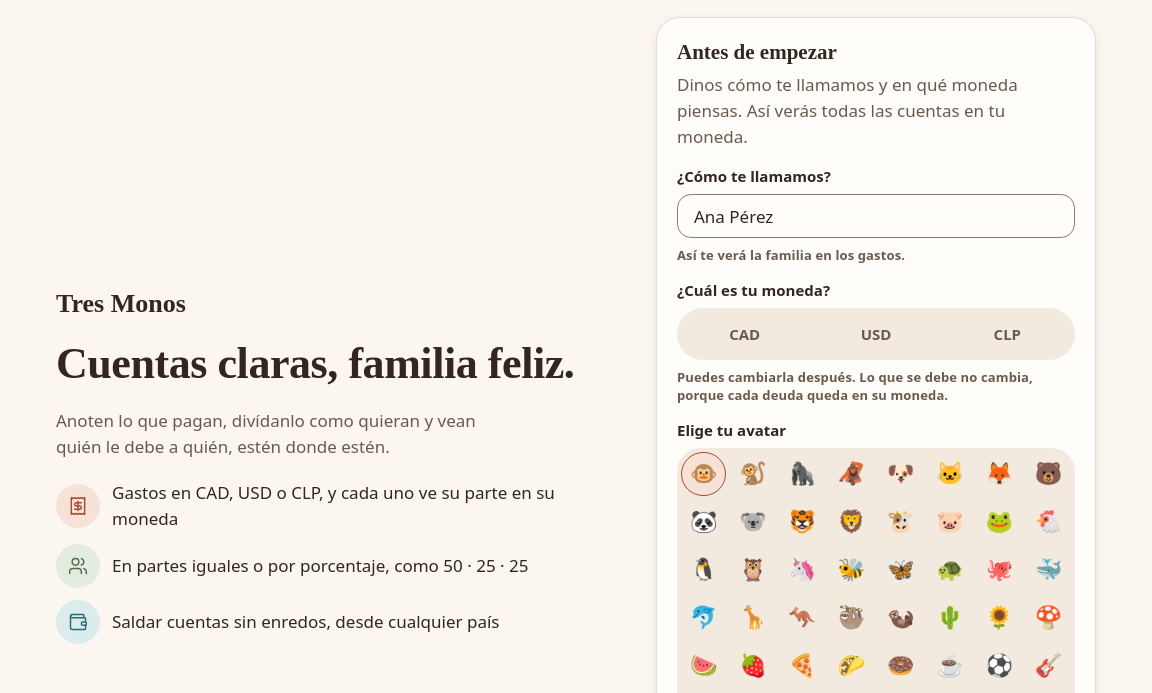
Test: screens › the first sign-in step › keeps the step open and explains when saving fails
Click the button "CAD".
click(745, 334)  # box [681,312,808,356]
(page scrolled)
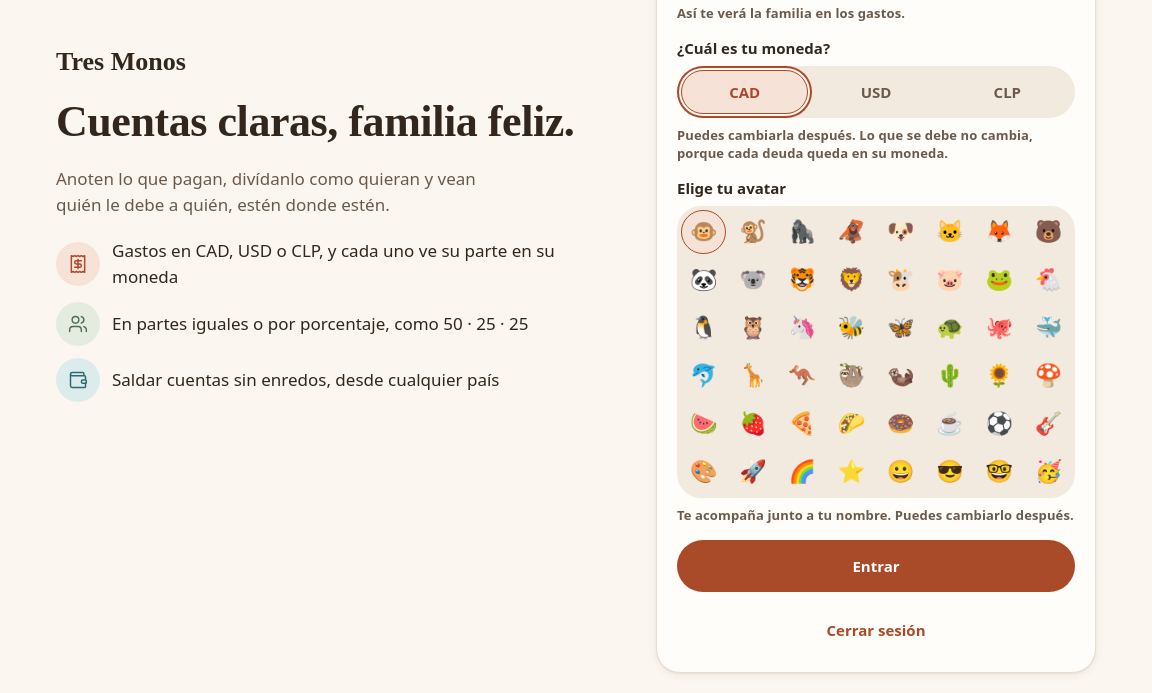
Click the button "Entrar".
click(876, 566)  # box [677,540,1075,592]
(page scrolled)
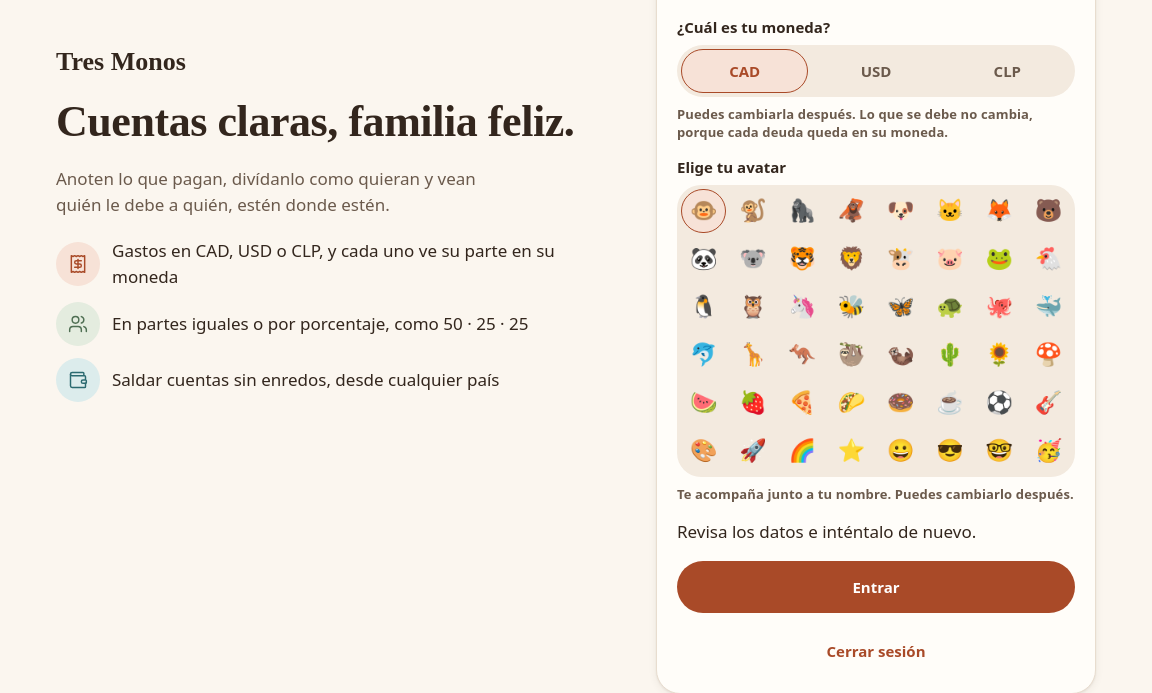
Result: the text "Revisa los datos e inténtalo de nuevo." is shown at [677,520,976,543]
